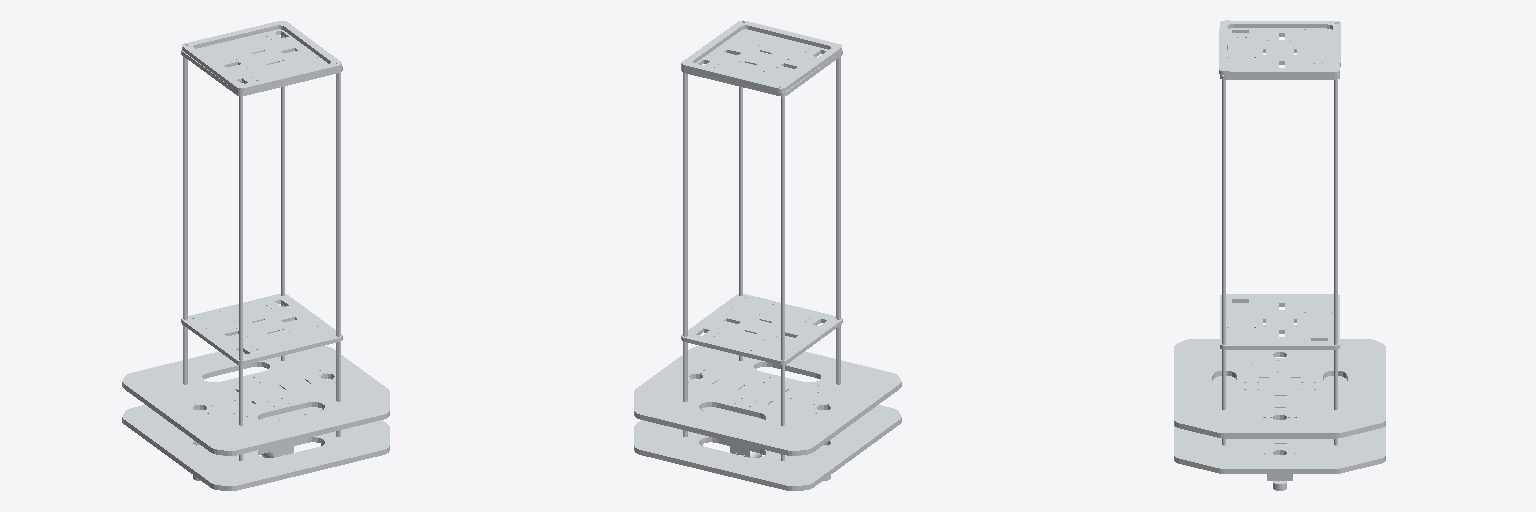
The robot description file, URDF, robot "sittwe":
<?xml version="1.0" encoding="utf-8"?>
<!-- This URDF was automatically created by SolidWorks to URDF Exporter! Originally created by [author] ([email redacted]) 
     Commit Version: 1.6.0-1-g15f4949  Build Version: 1.6.7594.29634
     For more information, please see http://wiki.ros.org/sw_urdf_exporter -->
<robot
  name="sittwe">
  <link
    name="base_link">
    <inertial>
      <origin
        xyz="-0.0045317 3.4781E-06 0.082877"
        rpy="0 0 0" />
      <mass
        value="8.5781" />
      <inertia
        ixx="0.09704"
        ixy="7.9054E-05"
        ixz="2.5183E-10"
        iyy="0.10984"
        iyz="-8.4902E-12"
        izz="0.19257" />
    </inertial>
    <visual>
      <origin
        xyz="0 0 0"
        rpy="0 0 0" />
      <geometry>
        <mesh
          filename="package://sittwe_description/meshes/base_link.STL" />
      </geometry>
      <material
        name="">
        <color
          rgba="0.89804 0.91765 0.92941 1" />
      </material>
    </visual>
    <collision>
      <origin
        xyz="0 0 0"
        rpy="0 0 0" />
      <geometry>
        <mesh
          filename="package://sittwe_description/meshes/base_link.STL" />
      </geometry>
    </collision>
  </link>
  <link
    name="right_wheel">
    <inertial>
      <origin
        xyz="-9.7145E-17 -0.0009488 -1.1102E-16"
        rpy="0 0 0" />
      <mass
        value="2.8826" />
      <inertia
        ixx="0.0029015"
        ixy="-2.0464E-17"
        ixz="9.0797E-19"
        iyy="0.00525"
        iyz="-1.6351E-17"
        izz="0.0029015" />
    </inertial>
    <visual>
      <origin
        xyz="0 0 0"
        rpy="0 0 0" />
      <geometry>
        <mesh
          filename="package://sittwe_description/meshes/right_wheel.STL" />
      </geometry>
      <material
        name="">
        <color
          rgba="0.29804 0.29804 0.29804 1" />
      </material>
    </visual>
    <collision>
      <origin
        xyz="0 0 0"
        rpy="0 0 0" />
      <geometry>
        <mesh
          filename="package://sittwe_description/meshes/right_wheel.STL" />
      </geometry>
    </collision>
  </link>
  <joint
    name="right_wheel_joint"
    type="continuous">
    <origin
      xyz="-0.00019478 -0.098333 -0.025976"
      rpy="0 0 0" />
    <parent
      link="base_link" />
    <child
      link="right_wheel" />
    <axis
      xyz="0 1 0" />
  </joint>
  <link
    name="left_wheel">
    <inertial>
      <origin
        xyz="-2.7756E-17 0.0009488 -1.1102E-16"
        rpy="0 0 0" />
      <mass
        value="2.8826" />
      <inertia
        ixx="0.0029015"
        ixy="-1.3805E-17"
        ixz="3.683E-18"
        iyy="0.00525"
        iyz="-1.2586E-17"
        izz="0.0029015" />
    </inertial>
    <visual>
      <origin
        xyz="0 0 0"
        rpy="0 0 0" />
      <geometry>
        <mesh
          filename="package://sittwe_description/meshes/left_wheel.STL" />
      </geometry>
      <material
        name="">
        <color
          rgba="0.29804 0.29804 0.29804 1" />
      </material>
    </visual>
    <collision>
      <origin
        xyz="0 0 0"
        rpy="0 0 0" />
      <geometry>
        <mesh
          filename="package://sittwe_description/meshes/left_wheel.STL" />
      </geometry>
    </collision>
  </link>
  <joint
    name="left_wheel_joint"
    type="continuous">
    <origin
      xyz="0 0.098333 -0.02605"
      rpy="0 0 0" />
    <parent
      link="base_link" />
    <child
      link="left_wheel" />
    <axis
      xyz="0 1 0" />
  </joint>
</robot>

--- Render facts (derived) ---
Views: 3 orthographic renders of the robot side by side, from view 1: azimuth 30°, elevation 25°; view 2: azimuth 150°, elevation 25°; view 3: azimuth 270°, elevation 25°.
Robot: sittwe — 3 links, 2 joints (2 continuous); root link base_link; default pose: every joint at zero.
Links seen in each view (by area): view 1: base_link; view 2: base_link; view 3: base_link.
Boxes of the visible links, <box> form: base_link: <box>122,21,389,490</box>; base_link: <box>634,20,901,490</box>; base_link: <box>1174,20,1385,490</box>.
Bounding box of the posed robot: 0.4 × 0.38 × 0.815 m (x, y, z).
1 mesh visuals loaded from 3 distinct referenced files (1 binary STL); not drawn: 2 (reference not matched to a file when rendering).